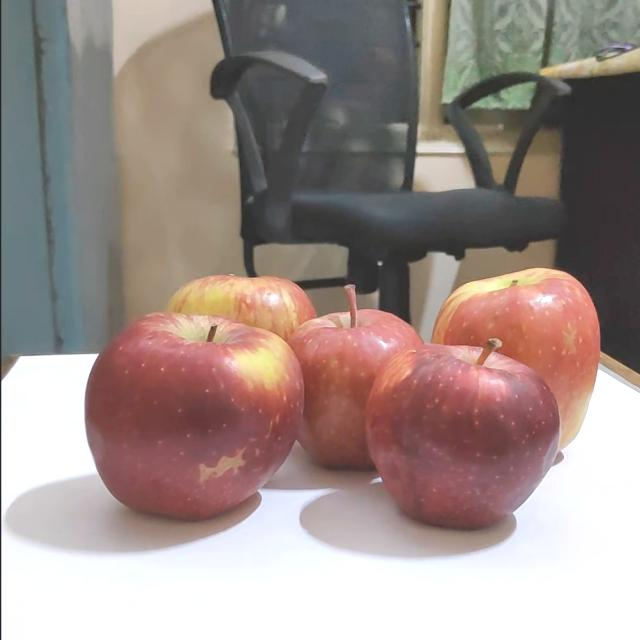apple: (120, 309, 349, 521), (410, 340, 604, 524), (300, 282, 452, 469), (450, 266, 620, 420), (167, 269, 339, 394)
